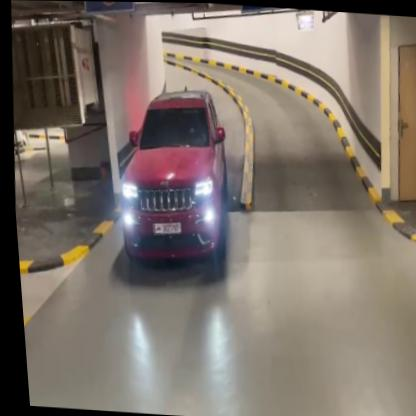np: (148, 221, 179, 235)
